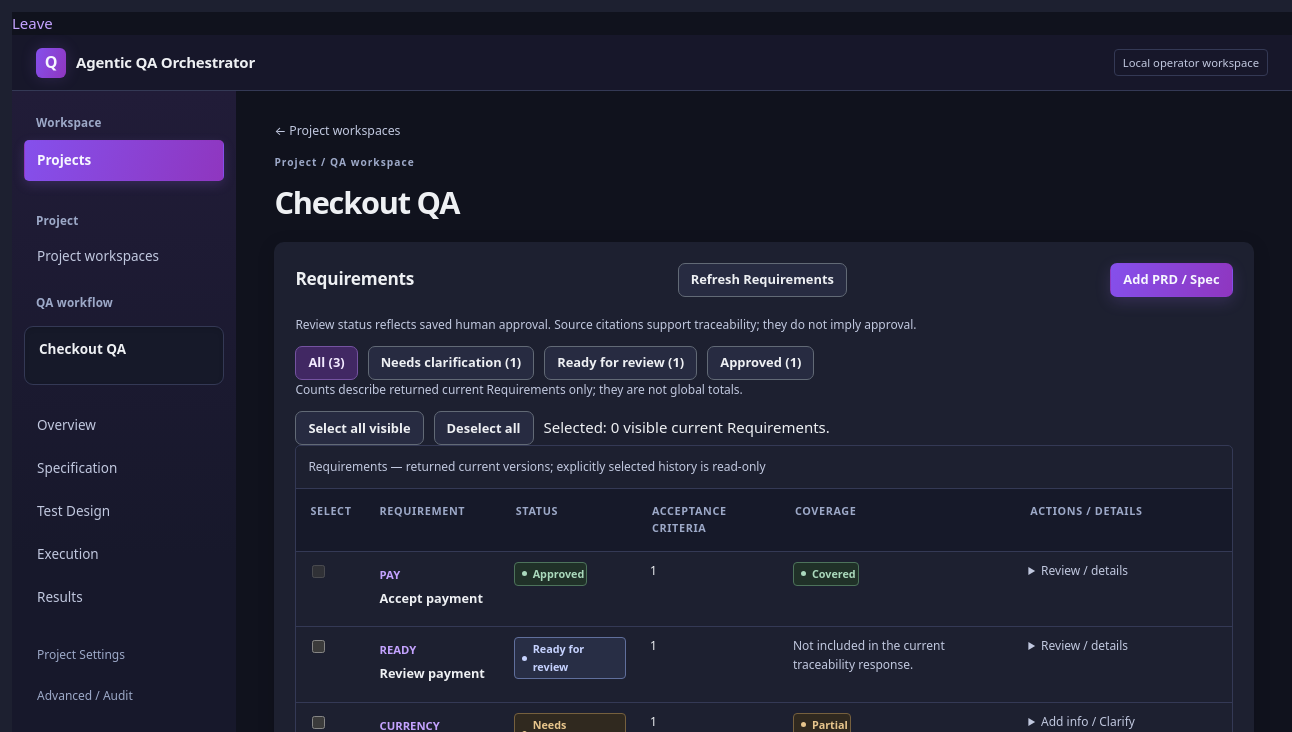
Requirements work table › uses local identity, bounded returned counts, filters and selects only visible rows
Expected: the row "Accept payment" is shown, x1=380 y1=567 x2=400 y2=582
Expected: the row "Review payment" is shown, x1=296 y1=627 x2=1233 y2=702
Click the button "Ready for review (1)": (621, 363) x1=544 y1=346 x2=697 y2=380
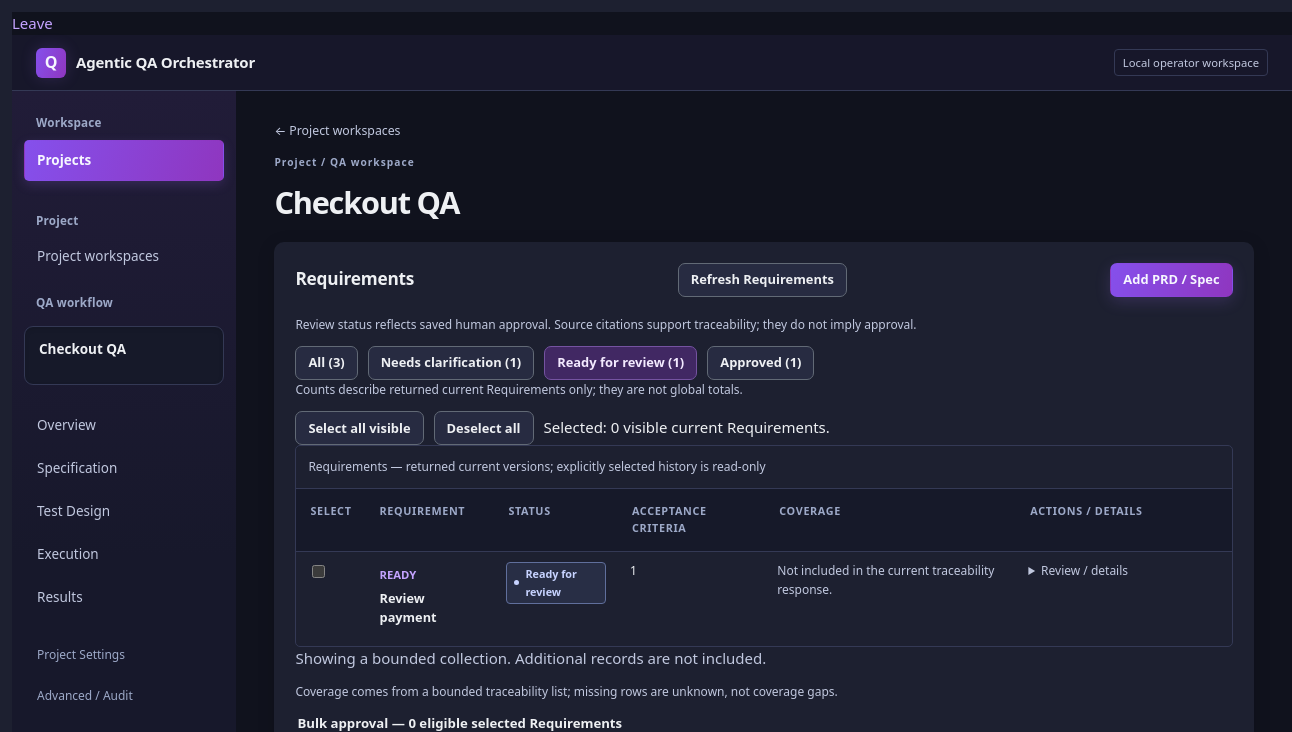
Now the number of checkboxes is 1, box x1=312 y1=565 x2=325 y2=578
Click the button "Select all visible": (360, 428) x1=295 y1=411 x2=424 y2=445
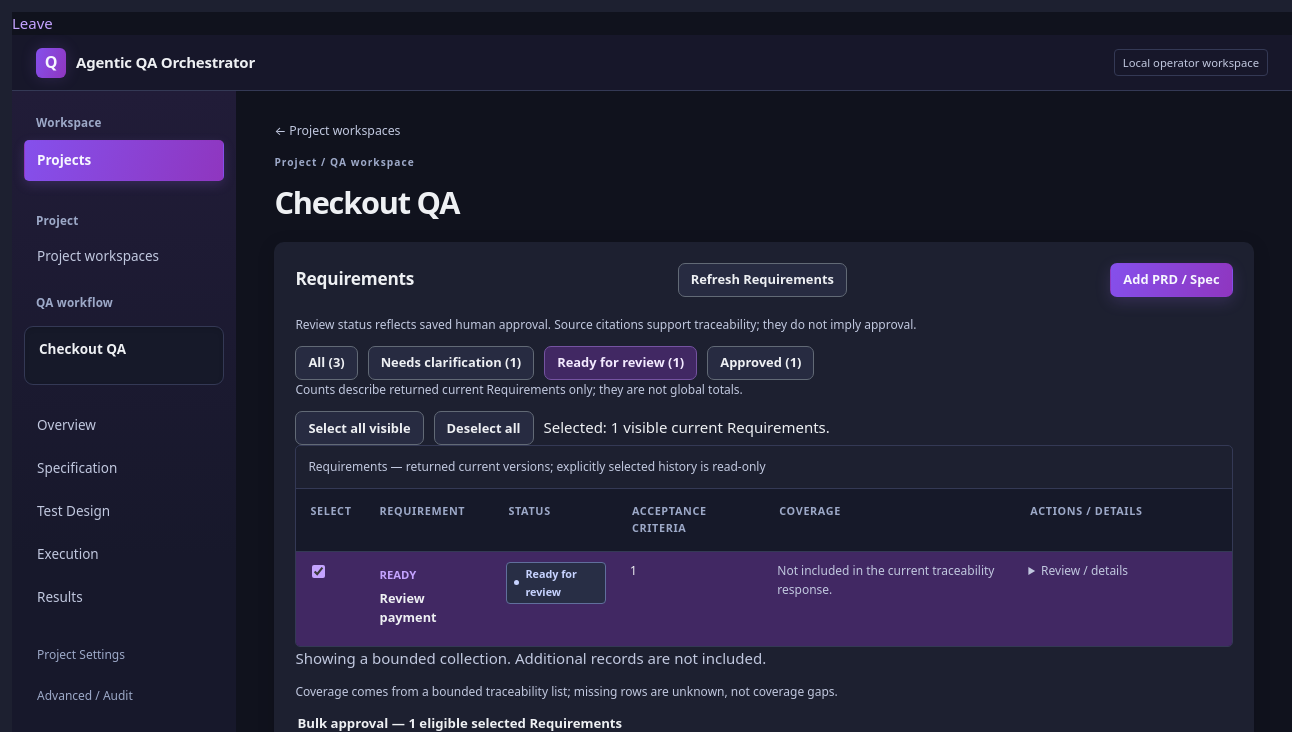
Now the checkbox is checked, box x1=312 y1=565 x2=325 y2=578
Now the text "Selected: 1 visible current Requirements." is shown, box x1=544 y1=416 x2=830 y2=440
Click the button "Deselect all": (484, 428) x1=434 y1=411 x2=534 y2=445
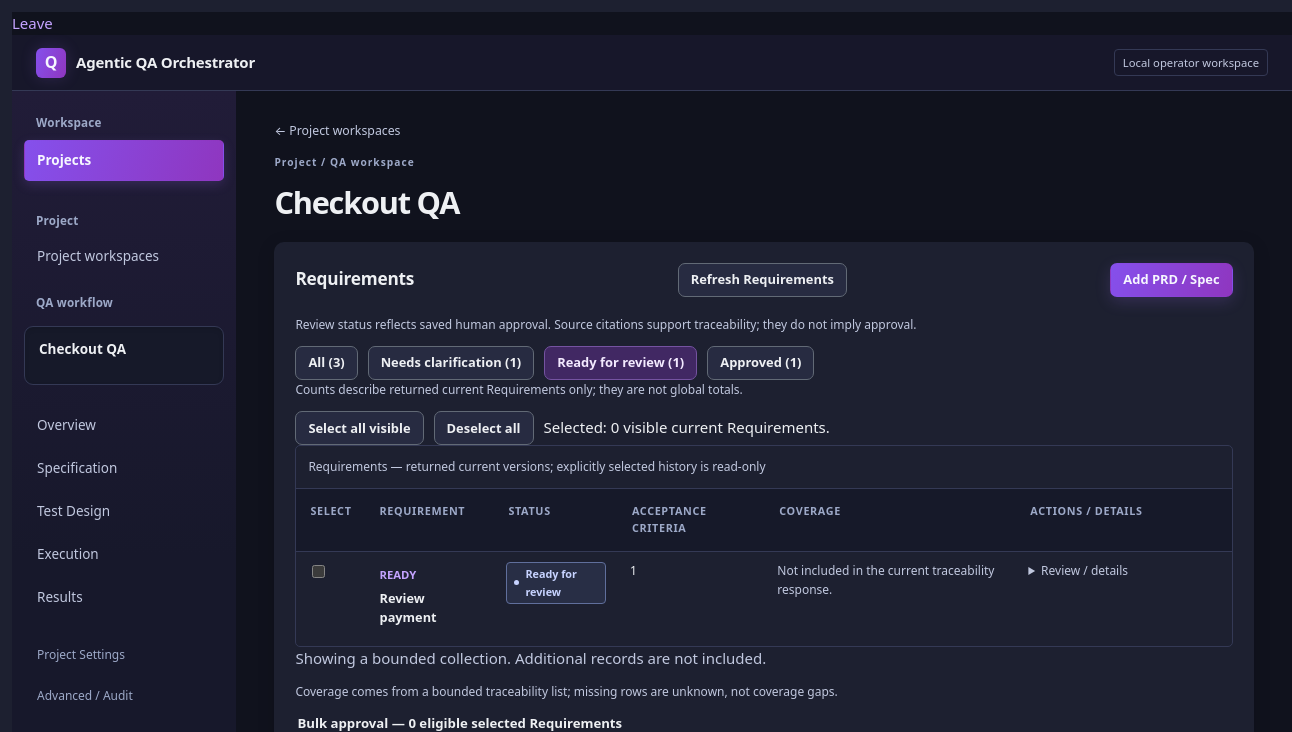
Now the checkbox is not checked, box x1=312 y1=565 x2=325 y2=578
Click the button "Needs clarification (1)": (451, 363) x1=368 y1=346 x2=534 y2=380
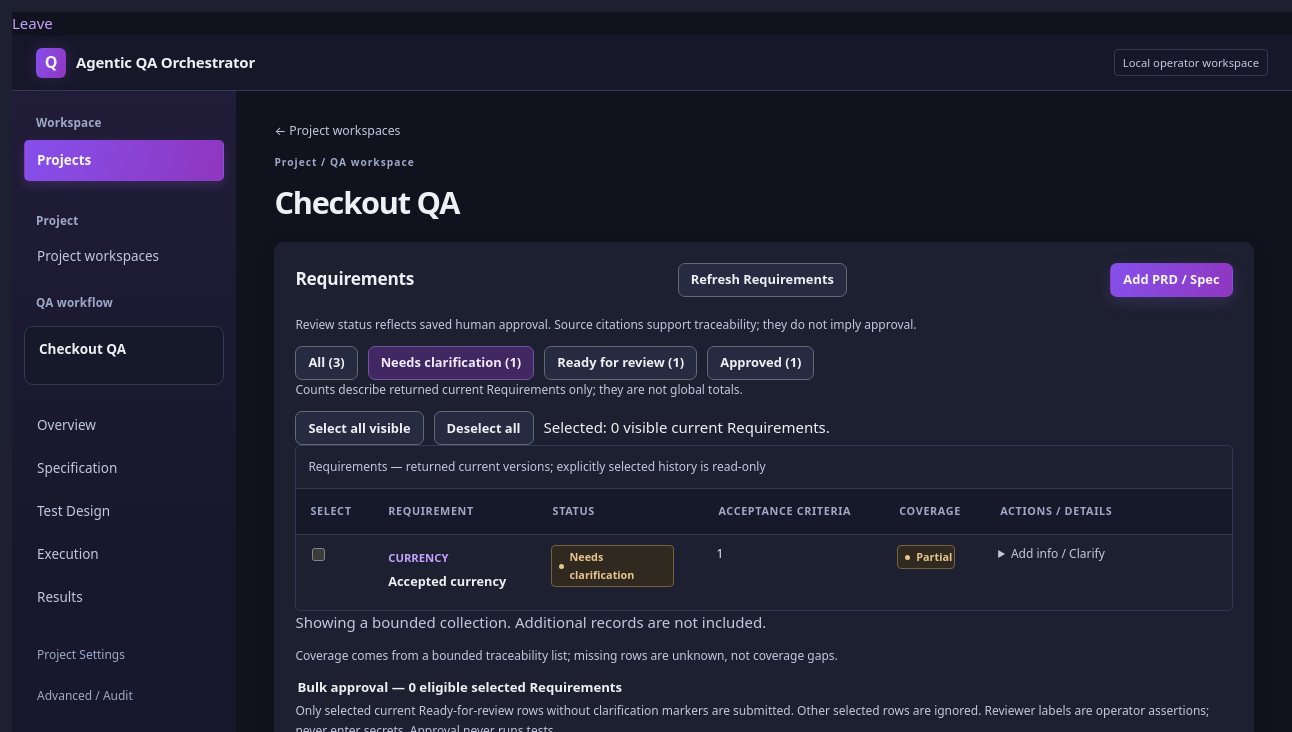
Now the checkbox named "Select CURRENCY" is not checked, box x1=312 y1=548 x2=325 y2=561
Click the button "Approved (1)": (761, 363) x1=707 y1=346 x2=814 y2=380
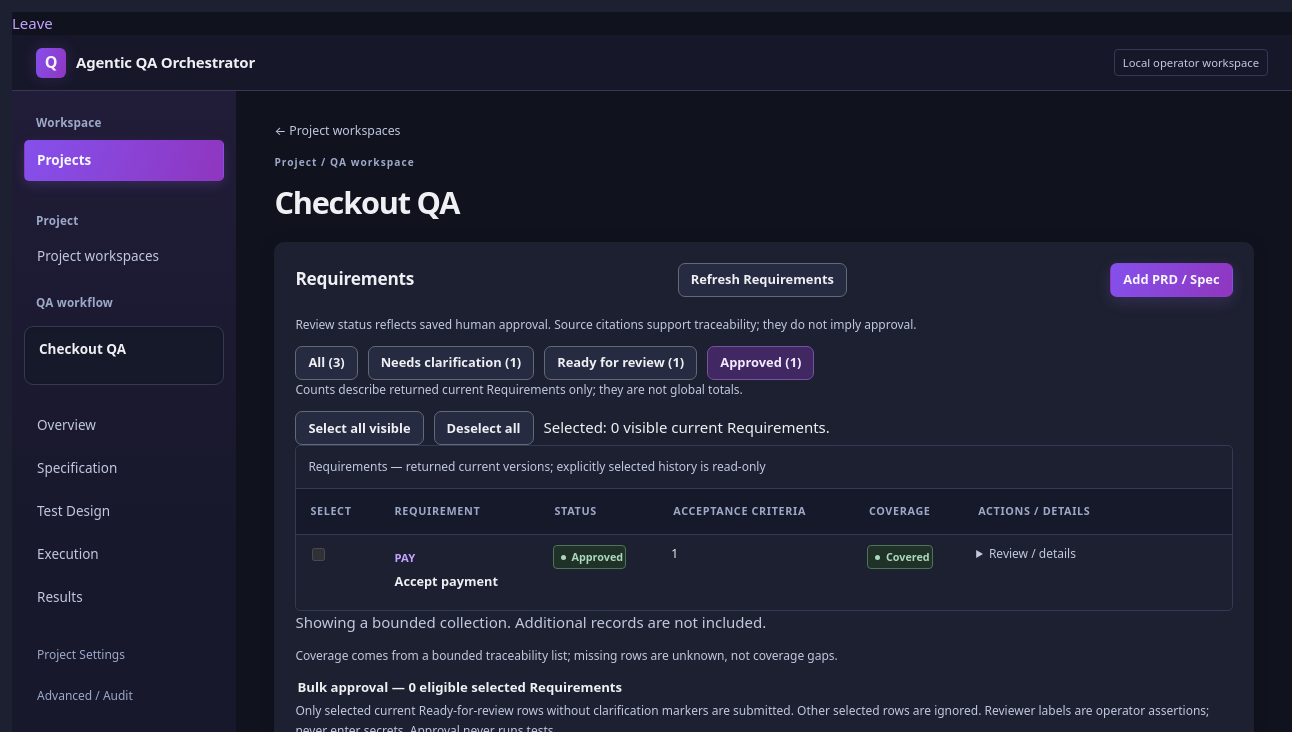
Expected: the text "Additional records" is shown, x1=295 y1=612 x2=766 y2=632
Now the checkbox named "Select PAY" is disabled, box x1=312 y1=548 x2=325 y2=561
